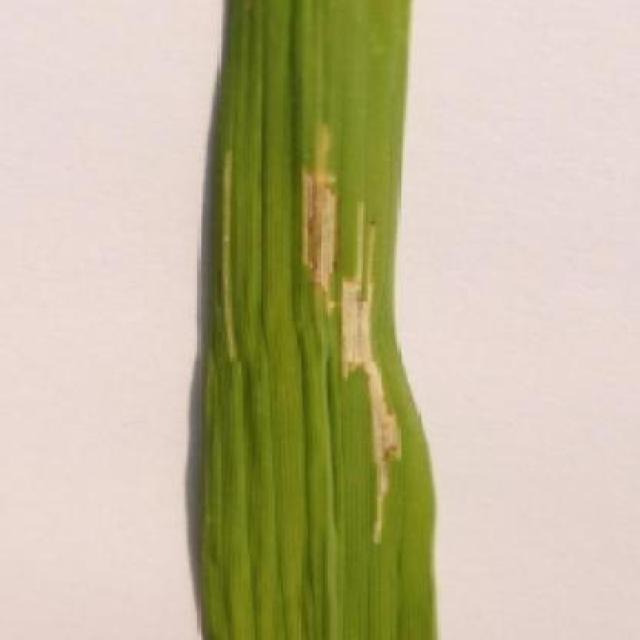Brown_Spot: (189, 0, 443, 640)
